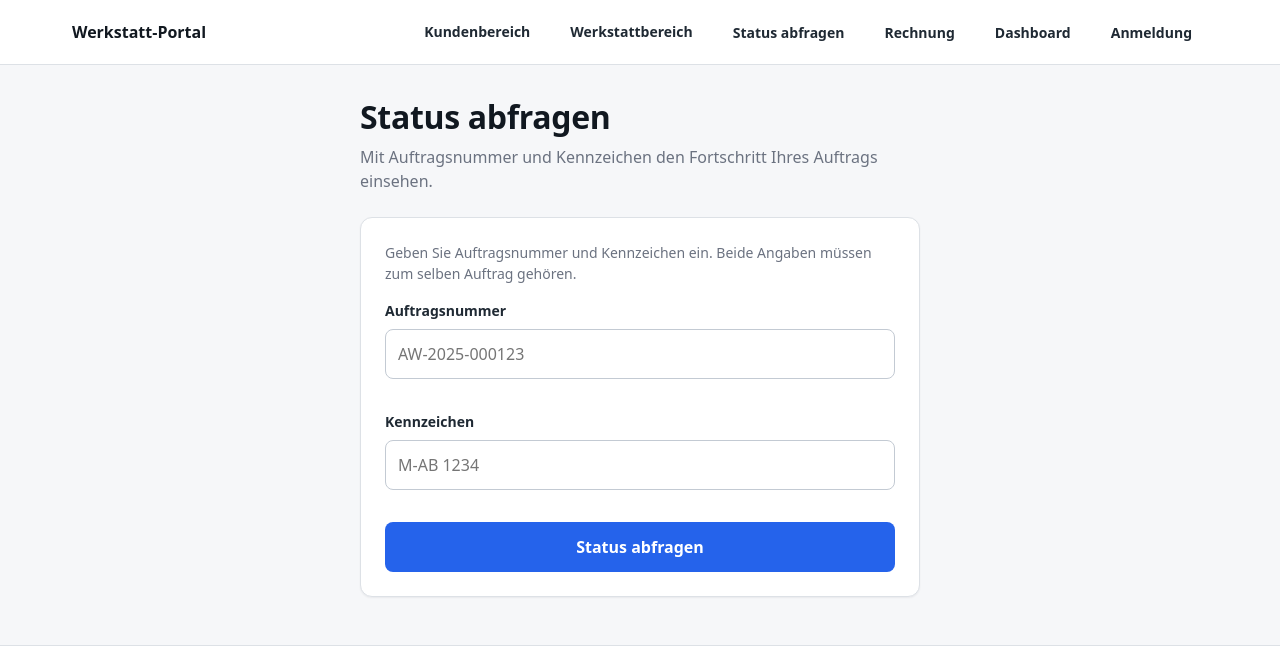
Test case: App shell › uses the header brand to reach the start page from another page
This screenshot has width=1280, height=671.
Expected: the heading "Status abfragen" is shown, top-left (360, 95), bottom-right (611, 138)
Step 1. Click the link "Werkstatt-Portal" → click(139, 32), box top-left (72, 20), bottom-right (206, 44)
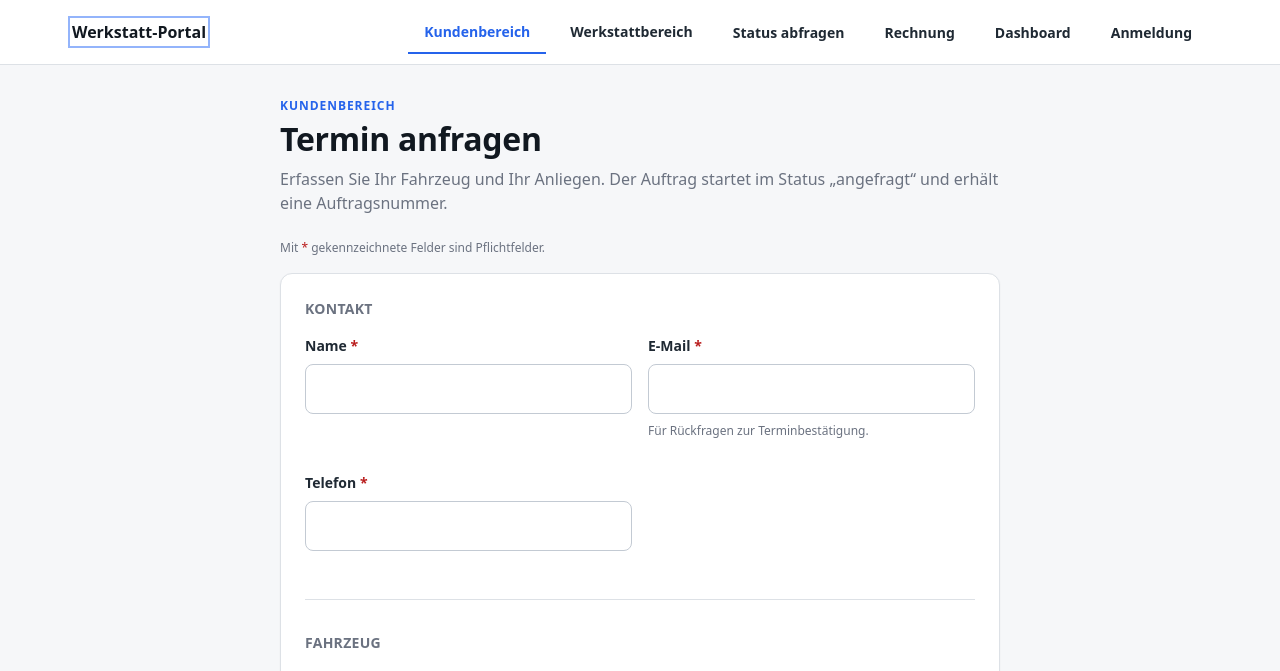
Result: the heading "Termin anfragen" is shown at top-left (280, 117), bottom-right (542, 160)
